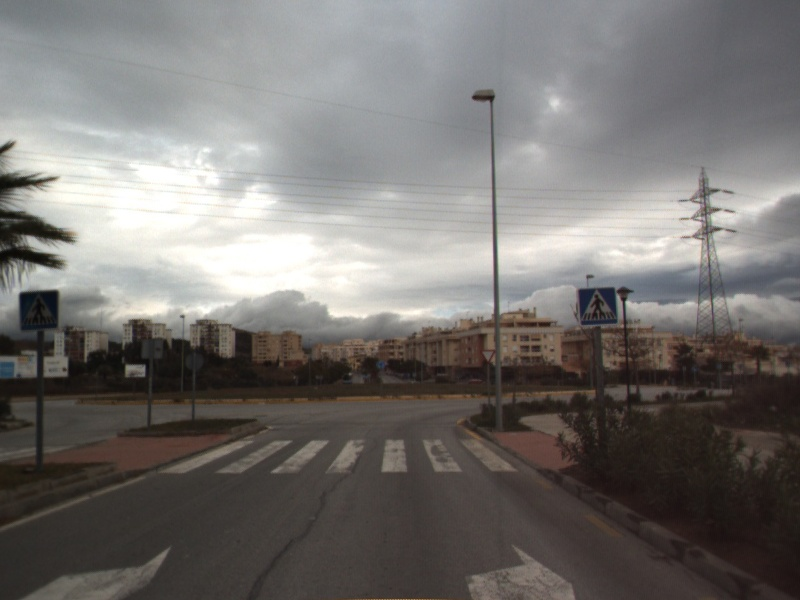RIGHT: (15, 541, 174, 600), (461, 541, 579, 600)
